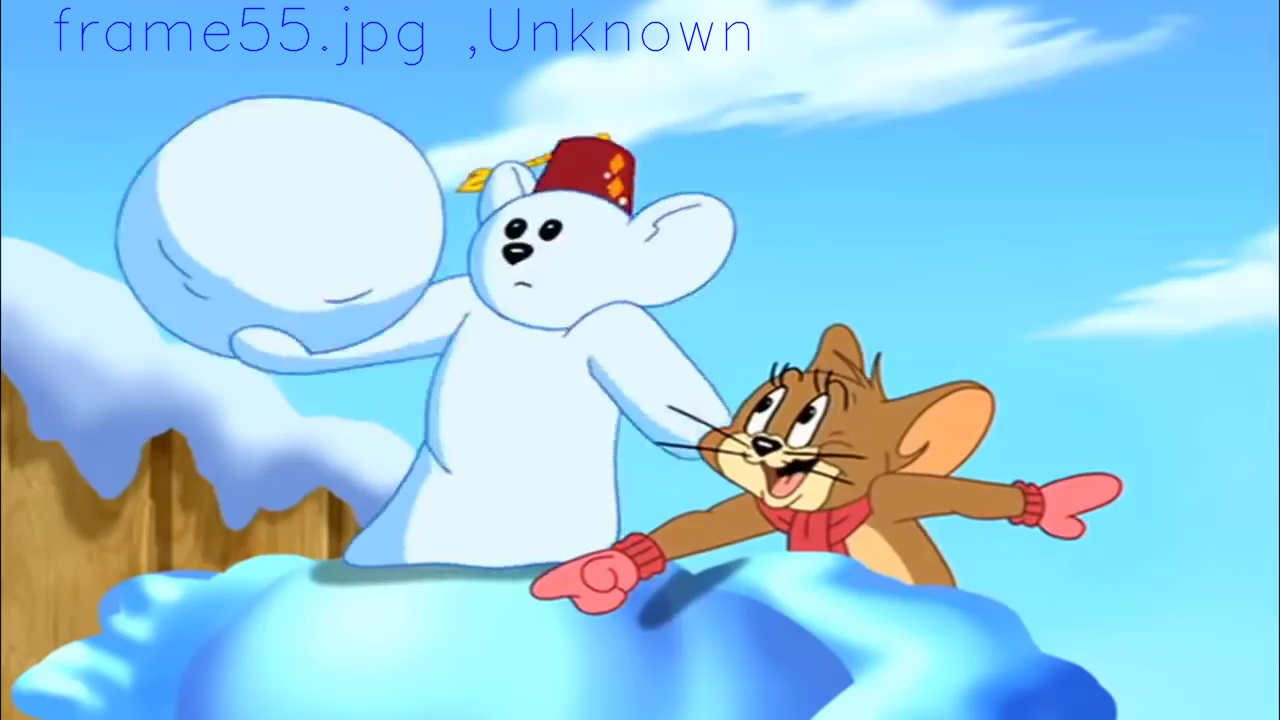happy: (740, 367, 849, 508)
